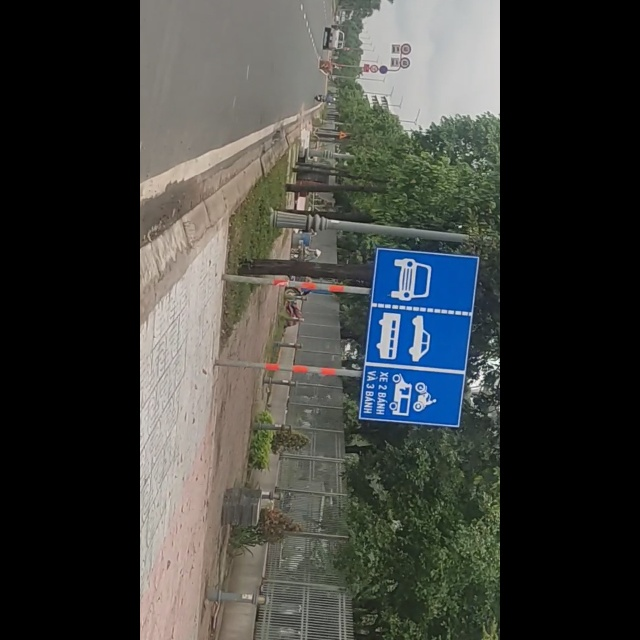bien_chi_dan: (386, 243, 596, 431)
